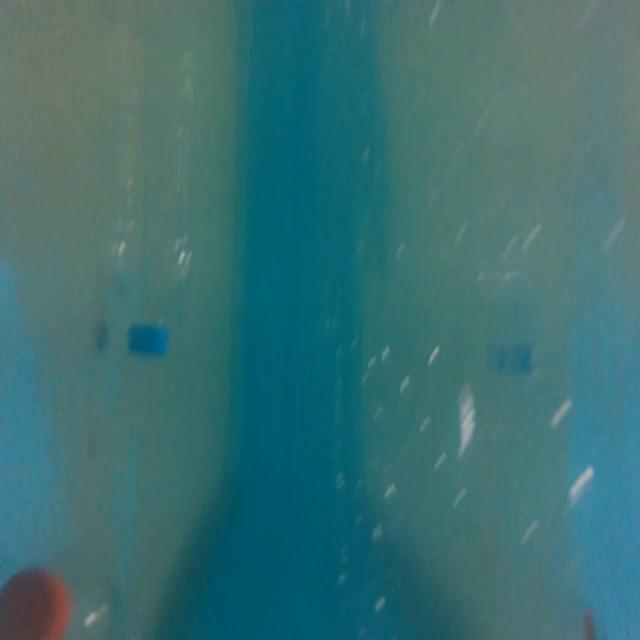plastic bottle: (100, 7, 218, 367), (1, 558, 138, 640)
